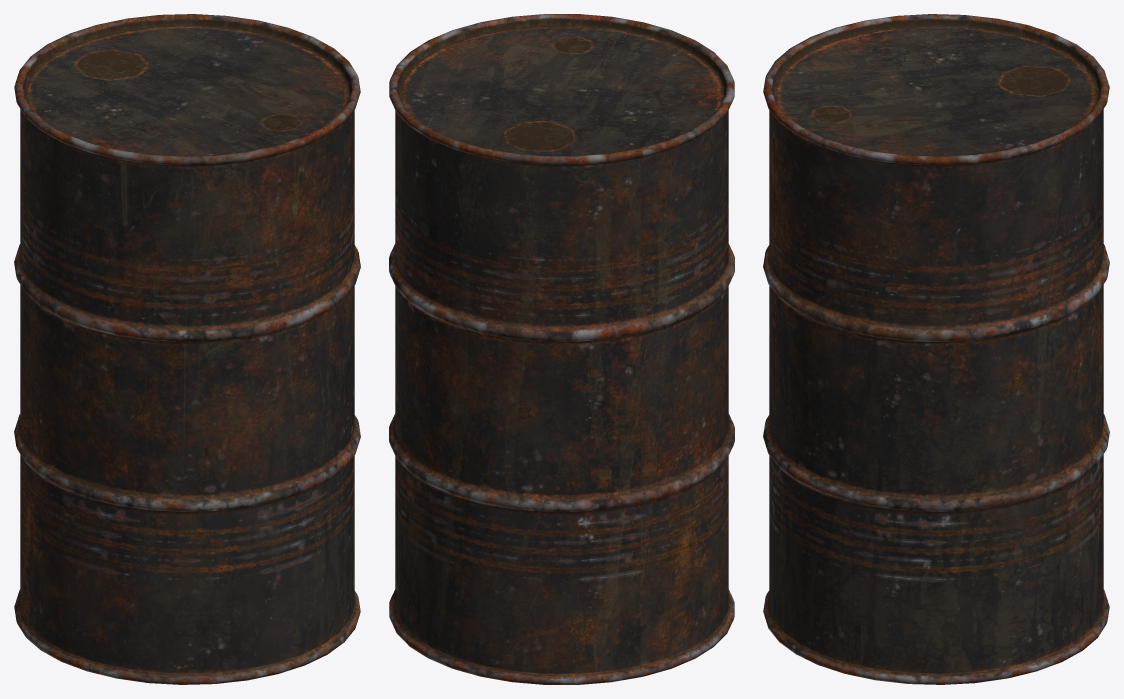
File: Barrel_6.glb
3 views of the same model, side by side, from view 1: azimuth 30°, elevation 25°; view 2: azimuth 150°, elevation 25°; view 3: azimuth 270°, elevation 25° (orthographic).
Parts seen in each view (by area): view 1: Barrel4_low_v2_Metal4_v2_0; view 2: Barrel4_low_v2_Metal4_v2_0; view 3: Barrel4_low_v2_Metal4_v2_0.
Boxes of the visible parts, left/top/right/bottom form: Barrel4_low_v2_Metal4_v2_0: left=14, top=14, right=360, bottom=684; Barrel4_low_v2_Metal4_v2_0: left=389, top=14, right=734, bottom=684; Barrel4_low_v2_Metal4_v2_0: left=763, top=14, right=1109, bottom=684.
Bounding box in the file's own units: 0.4118 × 0.6896 × 0.4118.
1 material, 1 textured.
